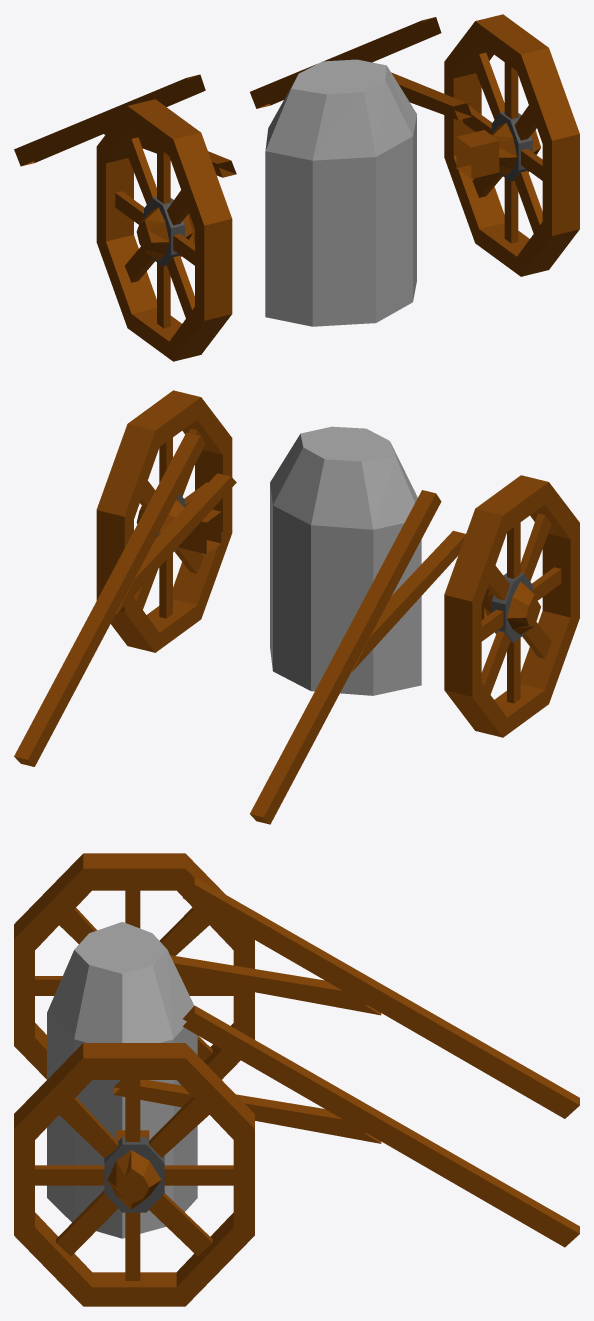
Rendered from dwarf multicannon part2.obj.
The picture shows the model from 3 angles, top to bottom: view 1: azimuth 30°, elevation 25°; view 2: azimuth 150°, elevation 25°; view 3: azimuth 270°, elevation 25°; orthographic projection. The views are drawn at different scales.
Parts seen in each view (by area): view 1: dwarf multicannon part2_back; view 2: dwarf multicannon part2_back; view 3: dwarf multicannon part2_back.
Boxes of the visible parts, x1,y1,x2,y2 form: dwarf multicannon part2_back: [14, 14, 579, 361]; dwarf multicannon part2_back: [14, 390, 579, 824]; dwarf multicannon part2_back: [14, 853, 579, 1306].
Bounding box in the file's own units: 1.67 × 0.95 × 1.88.
